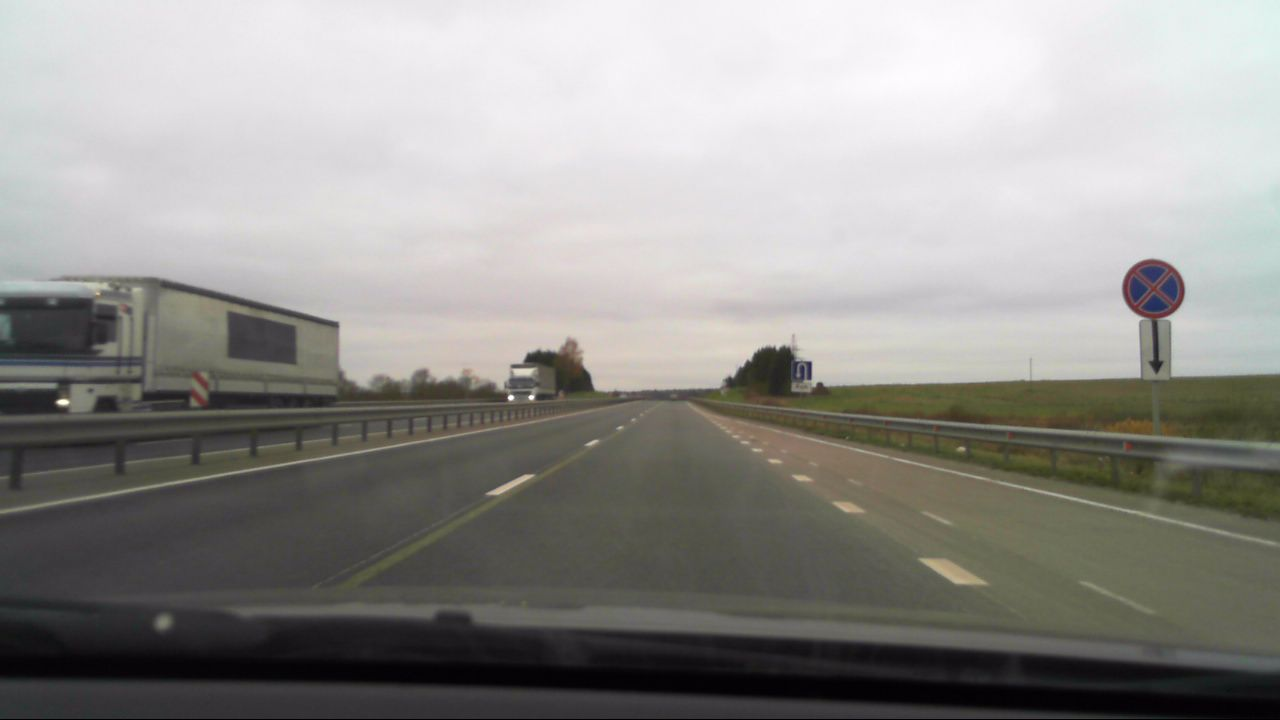No Parking: (1121, 257, 1185, 318)
U-turn: (792, 362, 811, 380)
